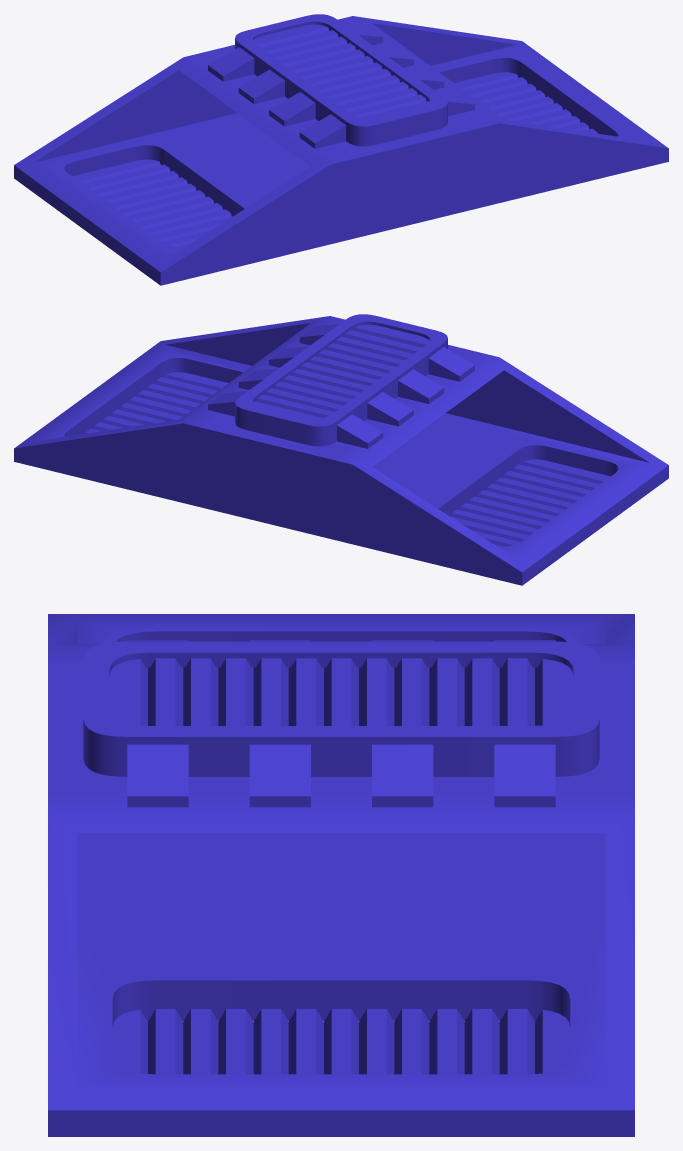
File: Ceiling_A_4x2m.FBX
The picture shows the model from 3 angles, top to bottom: view 1: azimuth 30°, elevation 25°; view 2: azimuth 150°, elevation 25°; view 3: azimuth 270°, elevation 25°; orthographic projection. The views are drawn at different scales.
Visible parts, largest first — view 1: Ceiling_A_4x2m; view 2: Ceiling_A_4x2m; view 3: Ceiling_A_4x2m.
Part boxes in pixels (left/top/right/bottom): Ceiling_A_4x2m: left=14, top=14, right=668, bottom=285; Ceiling_A_4x2m: left=14, top=314, right=668, bottom=585; Ceiling_A_4x2m: left=48, top=614, right=634, bottom=1136.
Size of the model in its own units: 400 by 77.05 by 200.
